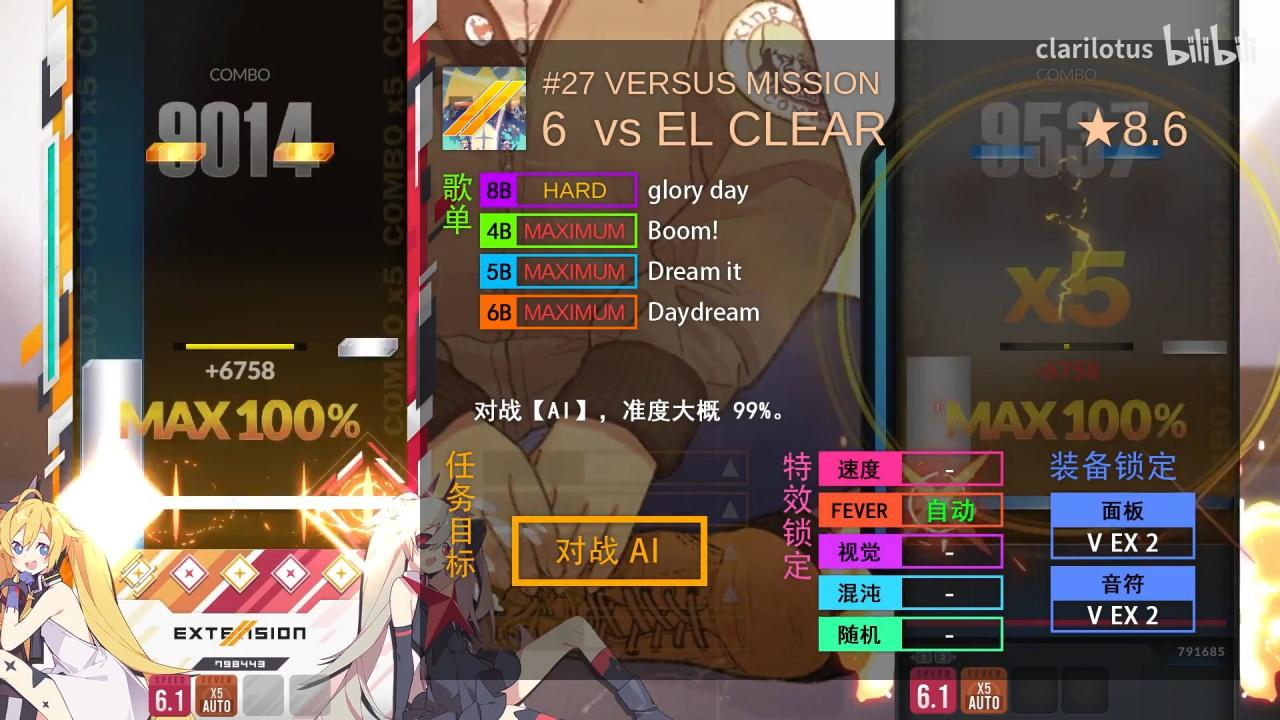hold-end: (81, 359, 143, 377)
note: (338, 337, 399, 357), (274, 142, 334, 162), (145, 142, 207, 161)
